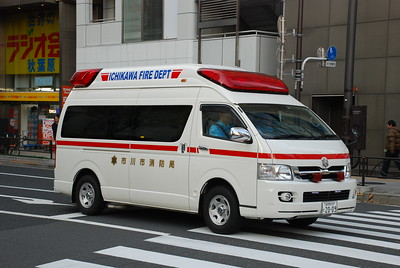van: (52, 64, 358, 235)
